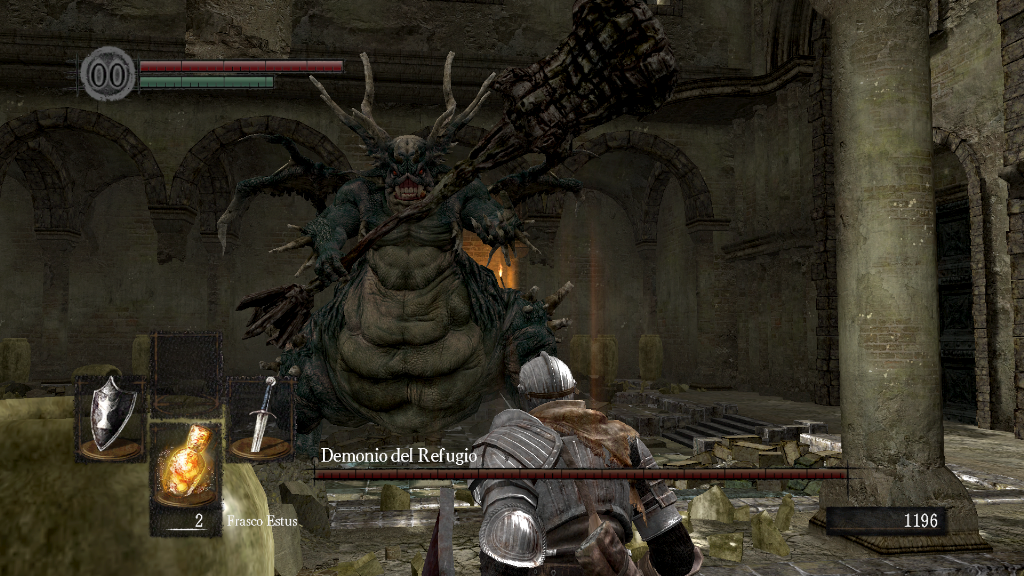asylumDemon: (216, 1, 679, 460)
bossHP: (314, 469, 847, 479)
health: (138, 58, 343, 71)
humanity: (80, 45, 136, 102)
player: (420, 348, 705, 576)
souls: (825, 506, 945, 536)
stamina: (138, 74, 274, 88)
